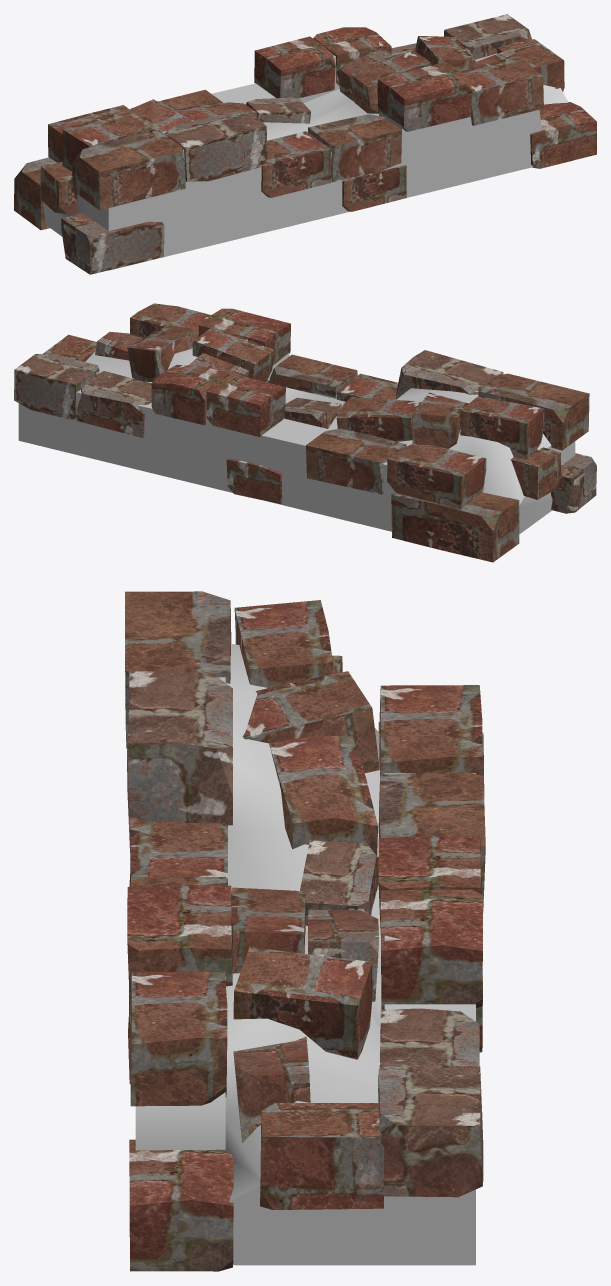
Rendered from SM_Wall_Thick_Ruined_016.fbx.
3 views of the same model, one above another, from view 1: azimuth 30°, elevation 25°; view 2: azimuth 150°, elevation 25°; view 3: azimuth 270°, elevation 25° (orthographic). The views are drawn at different scales.
Parts seen in each view (by area): view 1: SM_Wall_Thick_Ruined_016_LOD0; view 2: SM_Wall_Thick_Ruined_016_LOD0; view 3: SM_Wall_Thick_Ruined_016_LOD0.
Part boxes in pixels (<box>): SM_Wall_Thick_Ruined_016_LOD0: <box>14,14,596,274</box>; SM_Wall_Thick_Ruined_016_LOD0: <box>14,303,596,562</box>; SM_Wall_Thick_Ruined_016_LOD0: <box>125,591,485,1271</box>.
Size of what is drawn, in the model's own units: 421 by 89.7 by 132.
